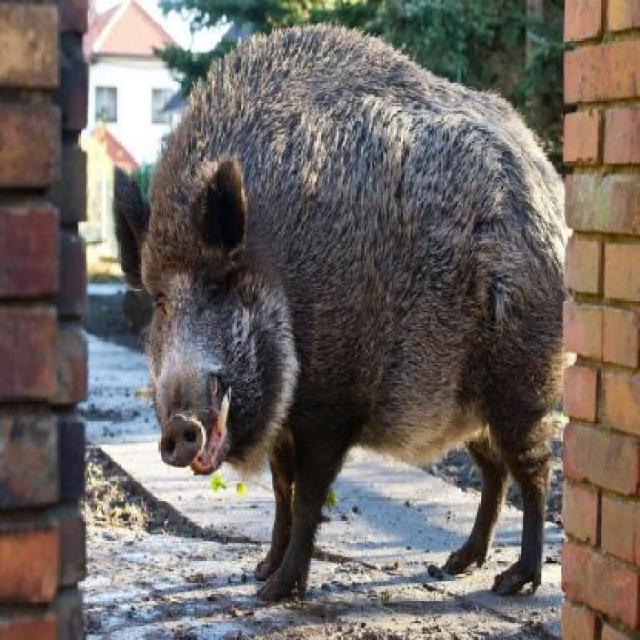Wild Boar: (108, 21, 575, 604)
